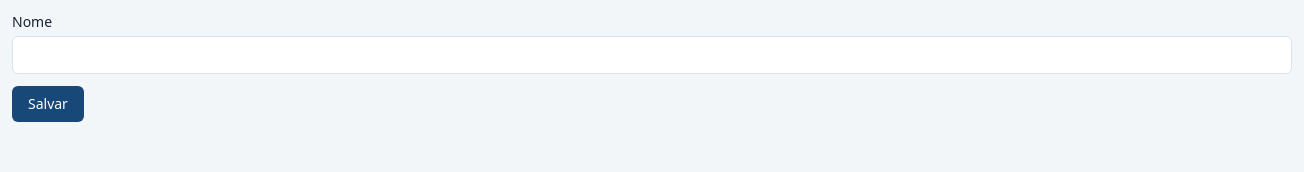
exibe erro de validação sem apagar o que foi preenchido
This screenshot has width=1304, height=172.
Type "Flux" into the field labelled "Nome" at {"x": 652, "y": 55}, box x1=12 y1=36 x2=1292 y2=74
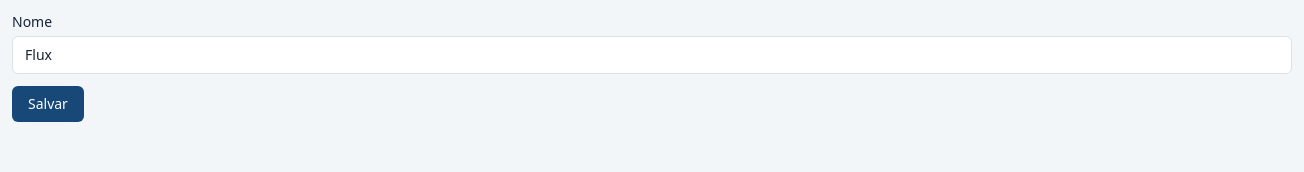
Click the button "Salvar" at {"x": 48, "y": 104}, box x1=12 y1=86 x2=84 y2=122
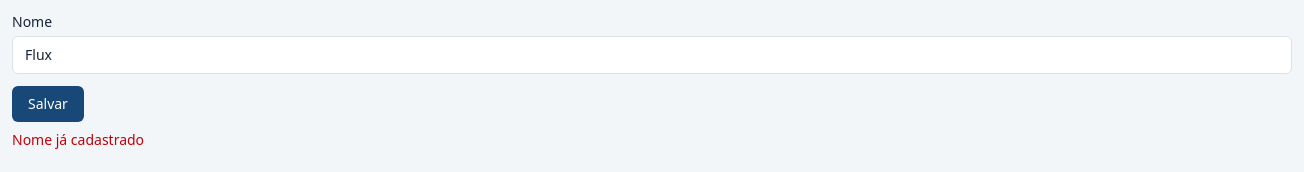
Check: the message reads "Nome já cadastrado", box x1=12 y1=130 x2=144 y2=149
